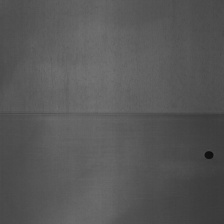punching_hole: (1, 103, 222, 124), (203, 149, 214, 162)
